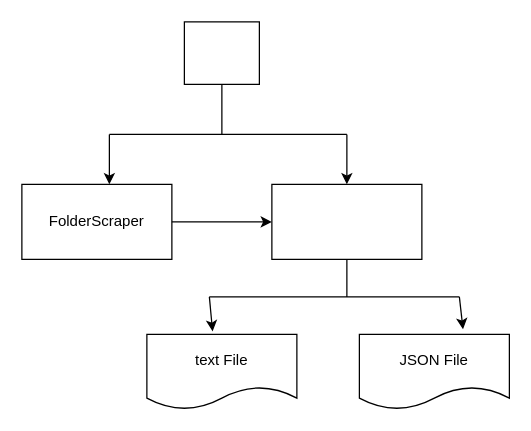
Some shapes in this 531 by 431 pixel diagram are drawn without their labels. The centre of each missing label's shape, as x and y in pixels:
"App" goes at pixel 221 52.
"ScraperMethods isJSON, readJSON, readTxt" goes at pixel 346 221.
